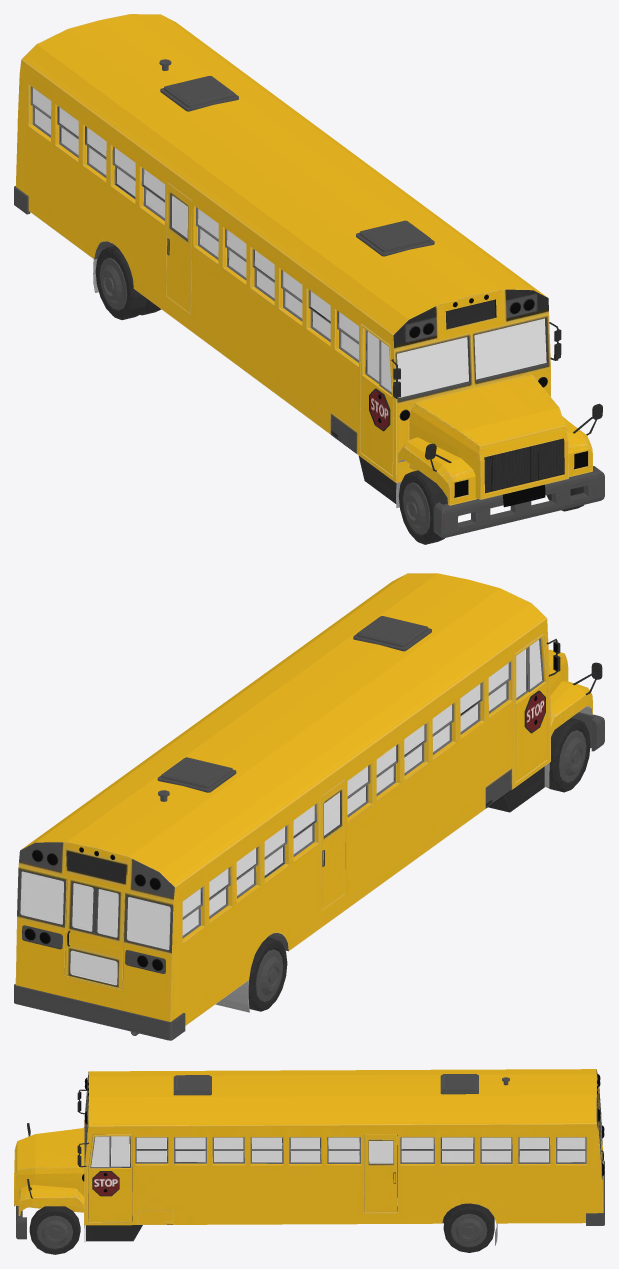
Rendered from realschoolbus.glb.
3 renders of one model, top to bottom at view 1: azimuth 30°, elevation 25°; view 2: azimuth 150°, elevation 25°; view 3: azimuth 270°, elevation 25°, orthographic. The views are drawn at different scales.
Parts seen in each view (by area): view 1: Object_4; view 2: Object_4; view 3: Object_4.
Boxes of the visible parts, x1,y1,x2,y2 form: Object_4: (14, 14, 604, 544); Object_4: (14, 573, 604, 1040); Object_4: (14, 1069, 604, 1254).
Bounding box in the file's own units: 2.12 × 2.53 × 9.
Materials: 1 (1 with a texture image).
